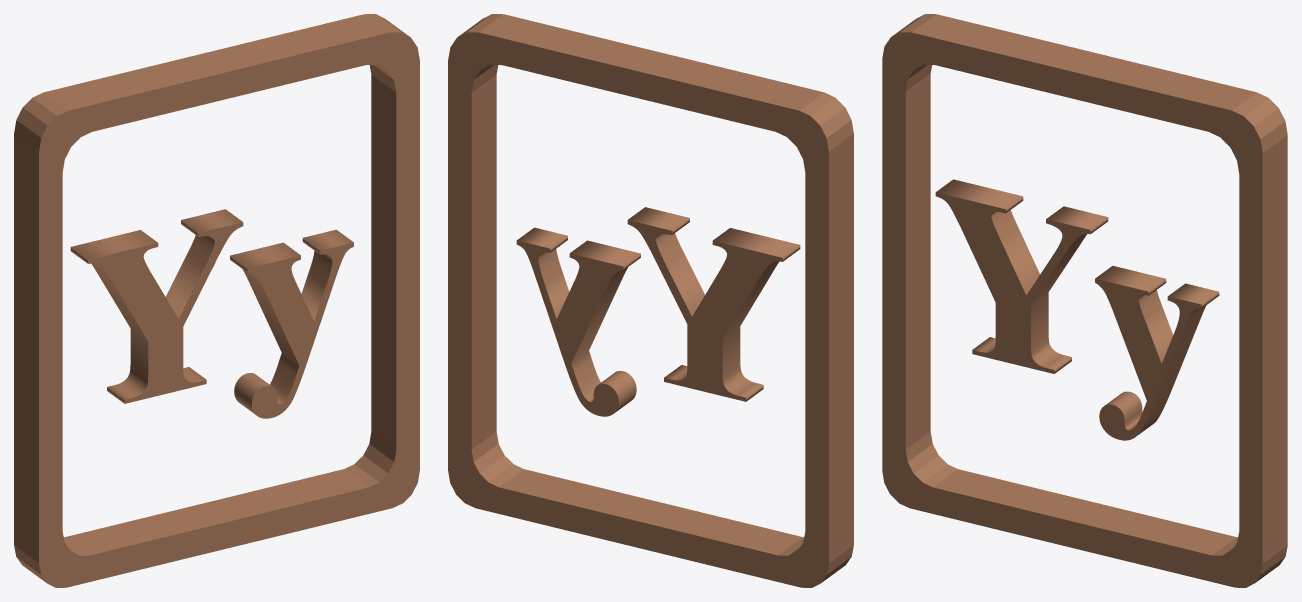
Rendered from Letter_Y.gltf.
3 views of the same model, side by side, from view 1: azimuth 30°, elevation 25°; view 2: azimuth 150°, elevation 25°; view 3: azimuth 330°, elevation 25° (orthographic).
Visible parts, largest first — view 1: Letters.026; view 2: Letters.026; view 3: Letters.026.
Part boxes in pixels (box(x1,y1,x2,y2)): Letters.026: box(14, 14, 419, 587); Letters.026: box(448, 14, 853, 587); Letters.026: box(882, 14, 1287, 587).
Size of the model in its own units: 1.25 by 1.49 by 0.1418.
